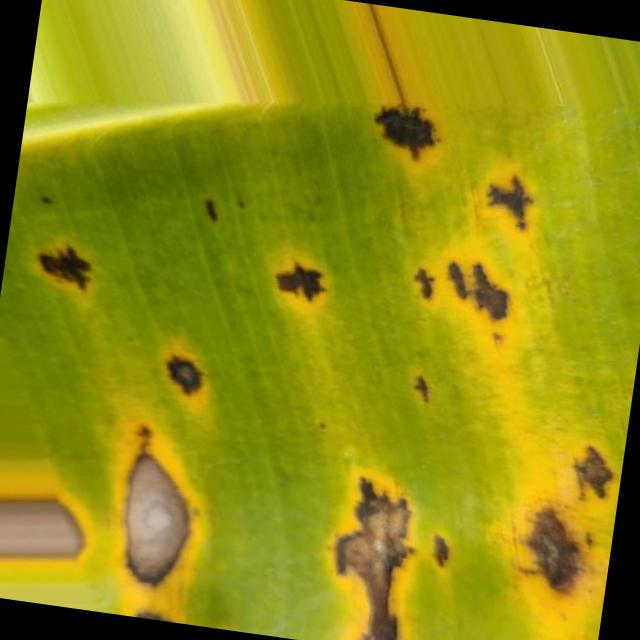Banana_Yellow_Sigatoka: (100, 396, 622, 640), (255, 107, 562, 340), (0, 425, 99, 609)
